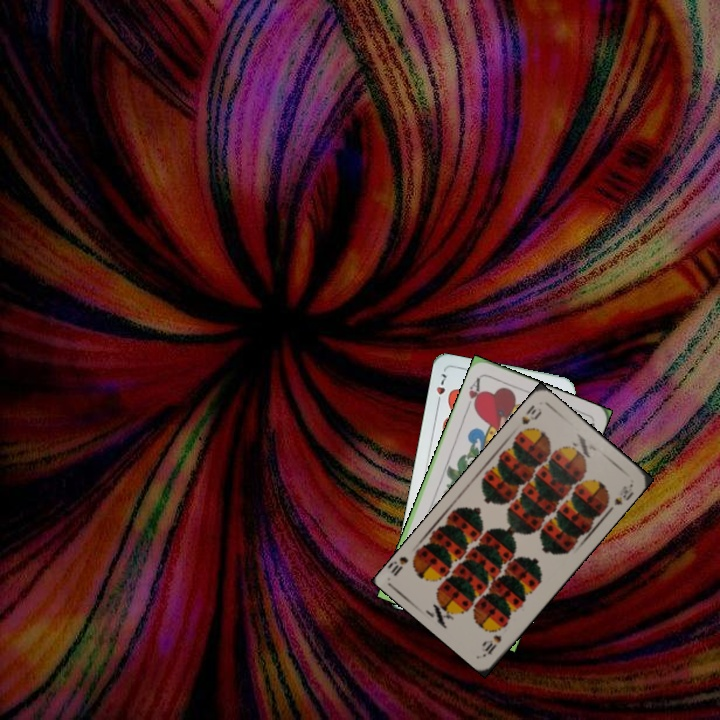H7: (432, 369, 449, 408)
HA: (462, 373, 485, 412)
S10: (514, 401, 545, 437), (479, 631, 504, 658)
